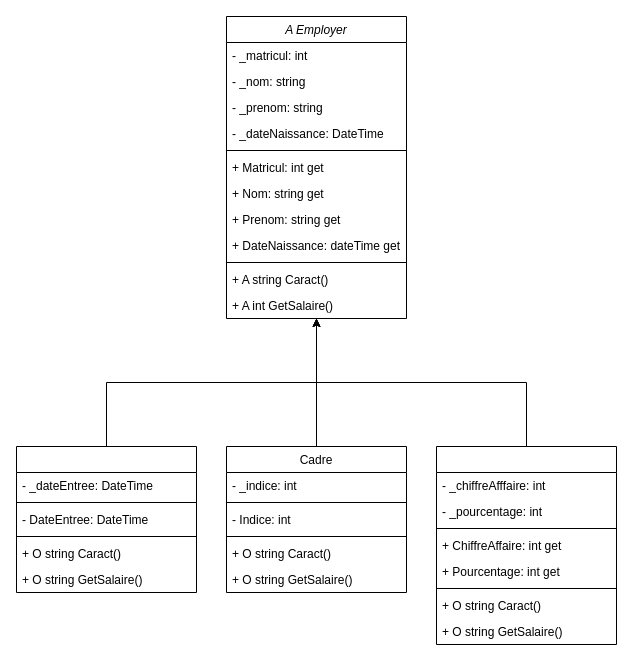
Image size: 633x661. Some labels were removed from this diagram. The shapes that lost their labels are listed below. From the top down, each one's box as (x1, y1, x2, y2) in pixels, then its label:
(16, 446, 196, 592): Ouvrier
(436, 446, 616, 644): Directeur
